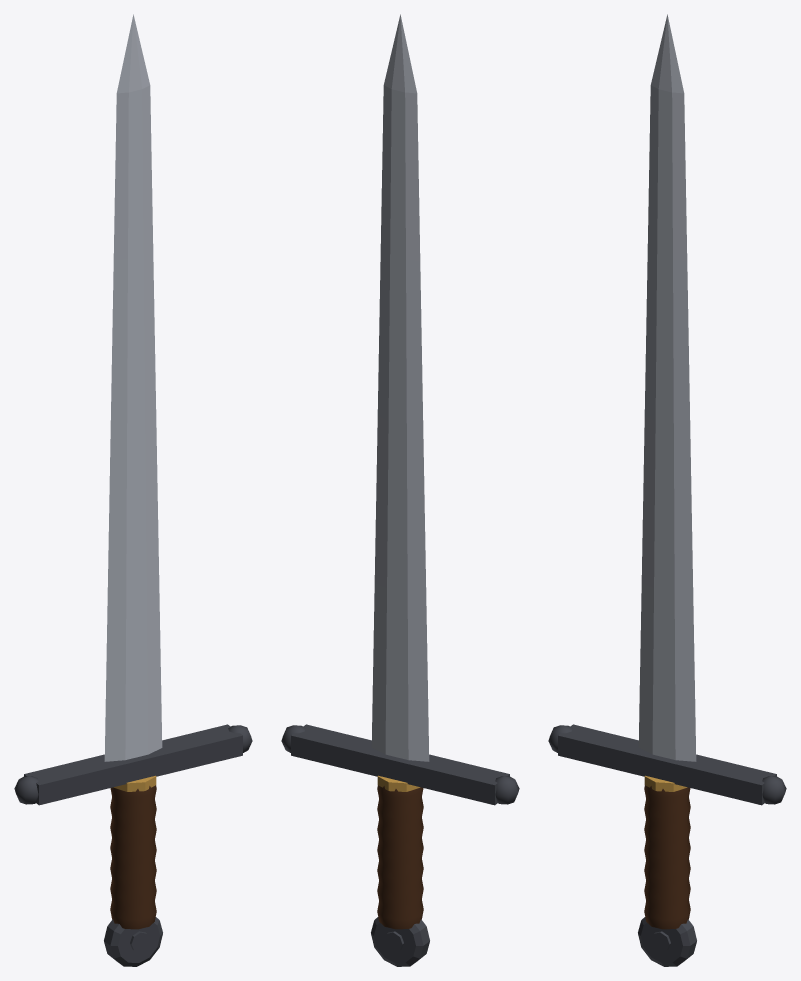
The model's file is shortsword.glb.
The picture shows the model from 3 angles, left to right: view 1: azimuth 30°, elevation 25°; view 2: azimuth 150°, elevation 25°; view 3: azimuth 330°, elevation 25°; orthographic projection.
Visible parts, largest first — view 1: Shortsword_Blade, Shortsword_Guard, Shortsword_Grip, Shortsword_Pommel; view 2: Shortsword_Blade, Shortsword_Guard, Shortsword_Grip, Shortsword_Pommel; view 3: Shortsword_Blade, Shortsword_Guard, Shortsword_Grip, Shortsword_Pommel.
Part boxes in pixels (x1,y1,x2,y2): Shortsword_Blade: [104, 14, 162, 761]; Shortsword_Guard: [14, 724, 252, 805]; Shortsword_Grip: [110, 785, 156, 929]; Shortsword_Pommel: [104, 917, 162, 966]; Shortsword_Blade: [371, 14, 429, 761]; Shortsword_Guard: [281, 724, 519, 805]; Shortsword_Grip: [377, 785, 423, 929]; Shortsword_Pommel: [371, 917, 429, 966]; Shortsword_Blade: [638, 14, 696, 761]; Shortsword_Guard: [548, 724, 786, 805]; Shortsword_Grip: [644, 785, 690, 929]; Shortsword_Pommel: [638, 917, 696, 966].
Size of the model in its own units: 0.196 by 0.757 by 0.034.
